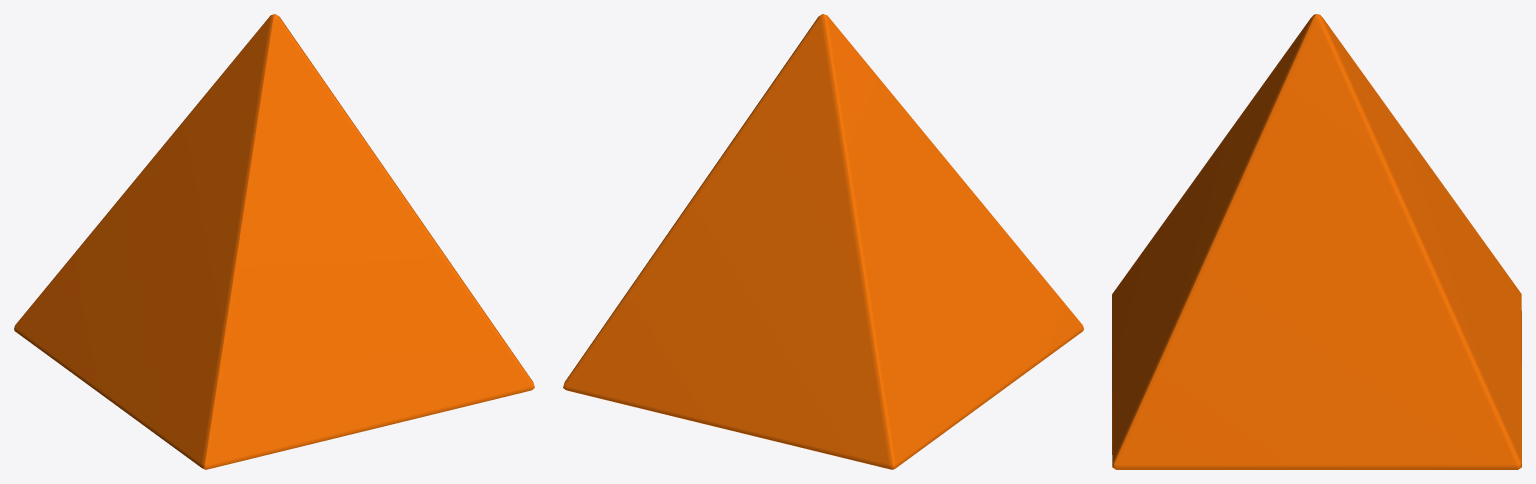
Rendered from sm_pyramidblock.fbx.
The picture shows the model from 3 angles, left to right: view 1: azimuth 30°, elevation 25°; view 2: azimuth 150°, elevation 25°; view 3: azimuth 270°, elevation 25°; orthographic projection. The views are drawn at different scales.
Visible parts, largest first — view 1: pyramidblock_low; view 2: pyramidblock_low; view 3: pyramidblock_low.
Boxes of the visible parts, box(x1,y1,x2,y2) form: pyramidblock_low: box(14, 14, 534, 469); pyramidblock_low: box(563, 14, 1083, 469); pyramidblock_low: box(1112, 14, 1521, 469).
Size of the model in its own units: 38.4 by 38.38 by 38.41.
